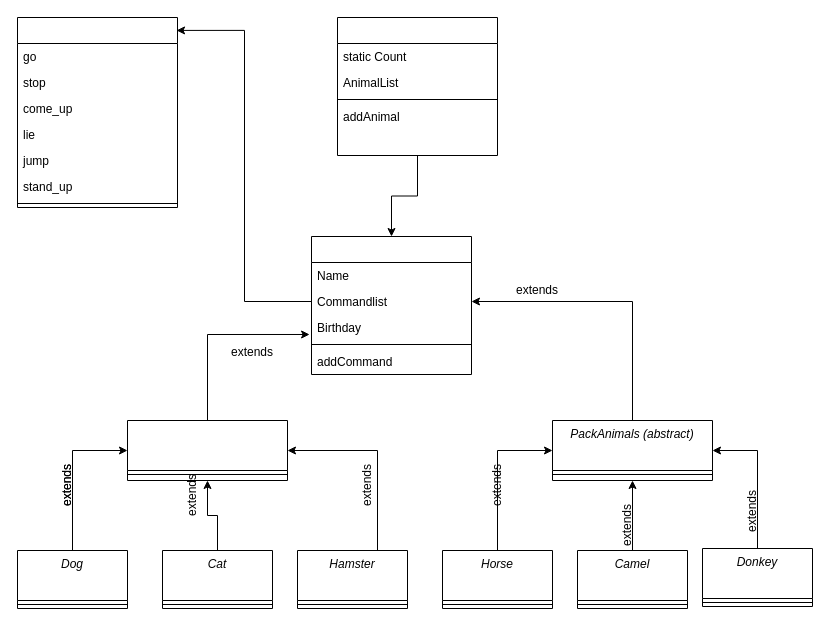
The diagram is 830 pixels wide and 626 high, and some of its shapes have lost their labels. The shapes that lost their labels are listed below. From the top down, each one's box as (x1, y1, x2, y2) in pixels, then its label:
(336, 16, 498, 156): AnimalShelter
(16, 16, 178, 208): Commands (enum)
(310, 236, 472, 374): Animals (abstract)
(126, 420, 288, 480): HomeAnimal (abstract)
